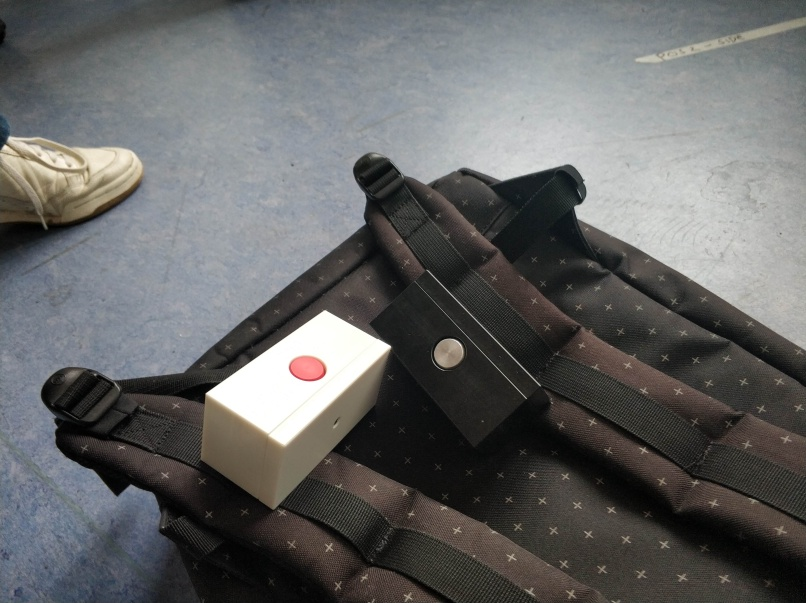black+black+silver: (365, 266, 547, 452)
white+white+red: (199, 306, 395, 515)
